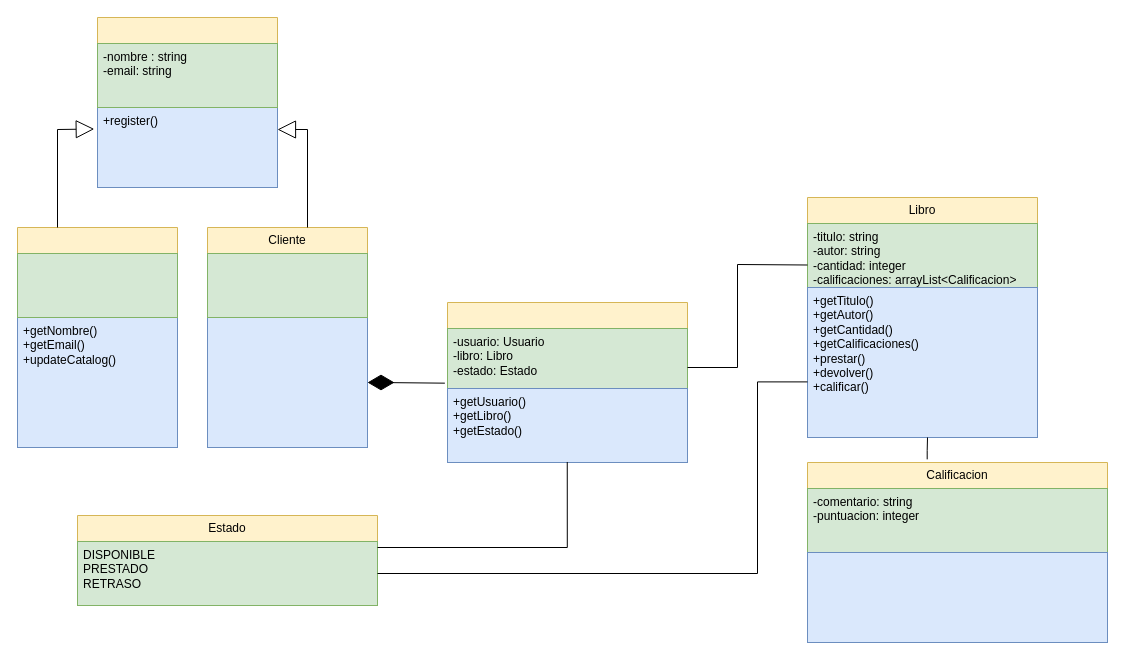
The diagram is 1125 pixels wide and 663 high, and some of its shapes have lost their labels. The box of each missing label's shape, as (x1, y1, x2, y2) in pixels:
+Calificacion() +getComentario() +getPuntuacion(): (806, 552, 1108, 642)
+getNombre() +getEmail() +getReservas() +reservar() +devolver(): (206, 316, 368, 448)
-reservas: arrayList<Reserva>: (206, 252, 368, 318)
Administrador: (16, 226, 178, 318)
Reserva: (446, 302, 688, 392)
Usuario: (96, 16, 278, 108)
